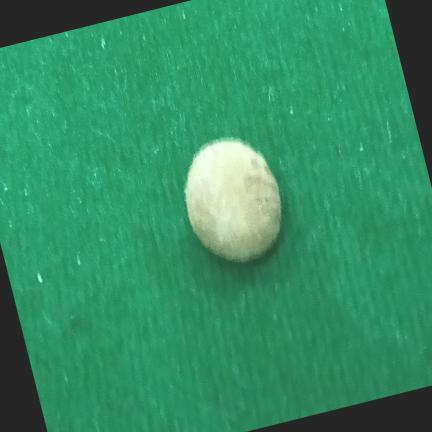good: (185, 137, 281, 262)
